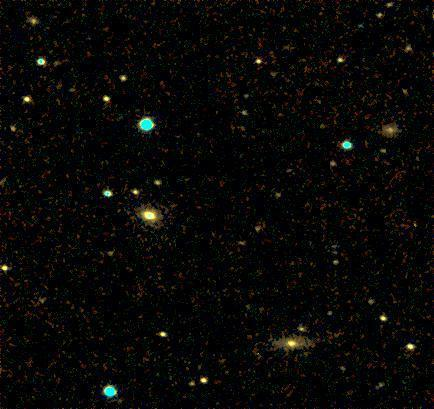star: (175, 364, 205, 394)
